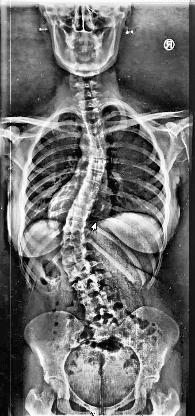Vertebrae: (73, 274, 103, 298), (67, 259, 97, 283), (86, 306, 116, 324), (80, 294, 110, 312), (62, 247, 95, 263), (65, 204, 91, 222), (71, 192, 95, 210), (60, 234, 86, 249), (64, 219, 88, 234), (84, 169, 104, 185), (88, 158, 108, 174), (80, 108, 102, 122), (79, 182, 99, 196), (84, 123, 106, 135), (91, 146, 109, 160), (88, 135, 106, 147)
